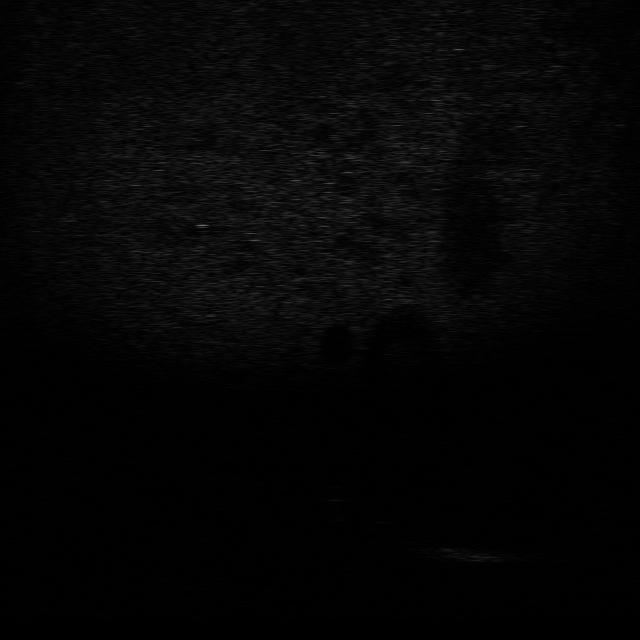ball: (313, 480, 355, 504)
metal bucket: (425, 540, 516, 568)
tyre: (360, 513, 429, 549)
